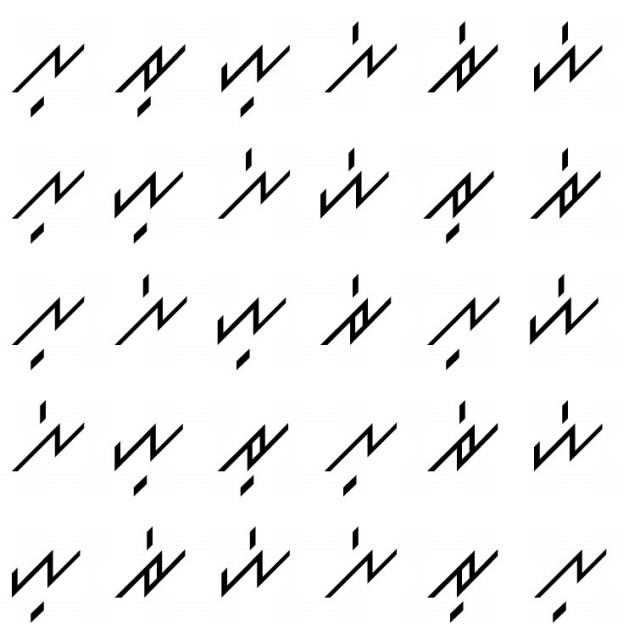le: (5, 387, 96, 478), (318, 523, 402, 613), (316, 17, 400, 95), (108, 271, 190, 350), (217, 142, 292, 226)
lu: (526, 537, 608, 633), (316, 412, 400, 502), (426, 280, 505, 370), (11, 284, 90, 374), (8, 164, 92, 248), (8, 36, 87, 121)
re: (524, 144, 608, 232), (106, 523, 191, 606), (313, 272, 398, 348), (425, 16, 505, 96), (423, 400, 507, 475)
ru: (213, 407, 296, 498), (411, 163, 499, 244), (428, 539, 502, 624), (112, 39, 189, 119)
ye: (521, 398, 608, 482), (518, 19, 612, 95), (313, 140, 402, 218), (214, 520, 300, 598), (522, 272, 605, 350)
yu: (102, 407, 190, 502), (102, 163, 190, 249), (206, 286, 292, 374), (7, 538, 89, 628), (212, 33, 298, 117)
